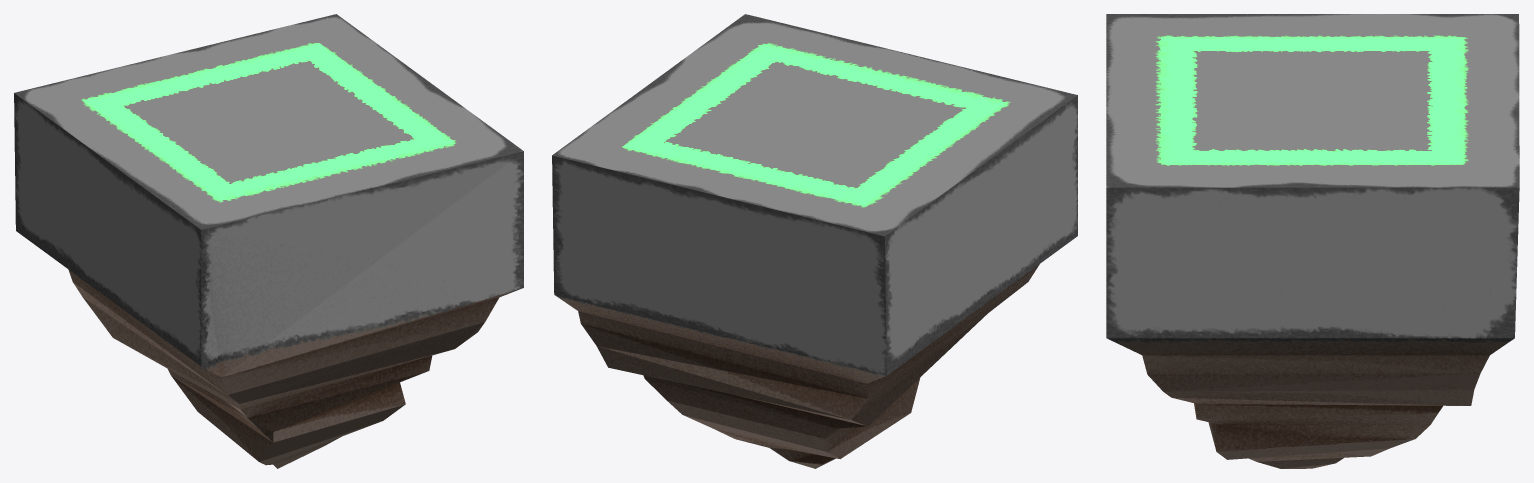
Rendered from Block.glb.
The picture shows the model from 3 angles, left to right: view 1: azimuth 30°, elevation 25°; view 2: azimuth 150°, elevation 25°; view 3: azimuth 270°, elevation 25°; orthographic projection. The views are drawn at different scales.
Parts seen in each view (by area): view 1: Block; view 2: Block; view 3: Block.
Boxes of the visible parts, x1=… form: Block: x1=14, y1=14, x2=523, y2=468; Block: x1=552, y1=14, x2=1077, y2=468; Block: x1=1106, y1=14, x2=1519, y2=468.
Bounding box in the file's own units: 1 × 0.9884 × 1.01.
Materials: 1 (1 with a texture image).
